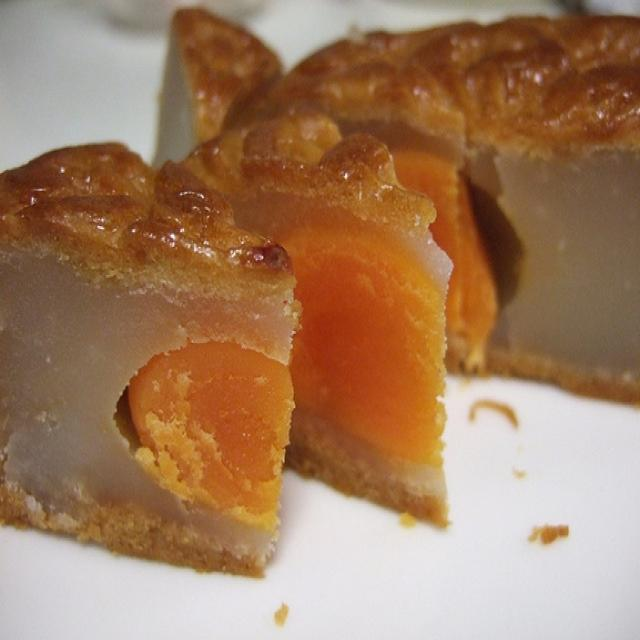蛋糕甜品: (13, 15, 616, 572)
